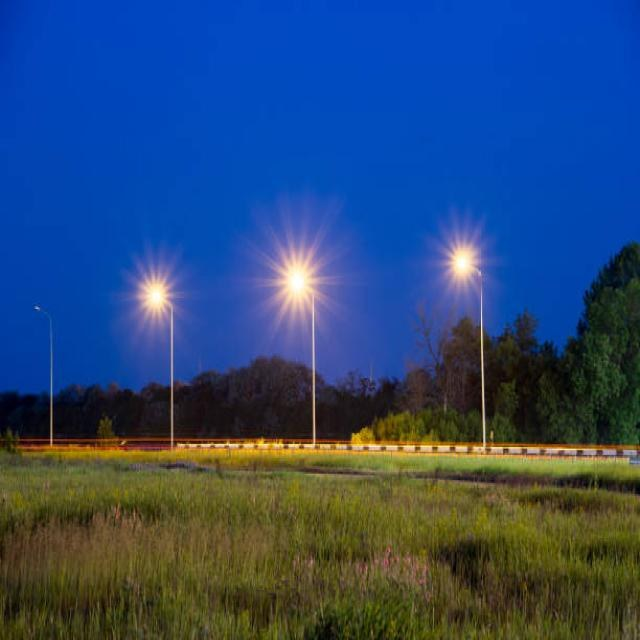acesa: (242, 199, 352, 343), (437, 228, 490, 285), (137, 270, 176, 316)
